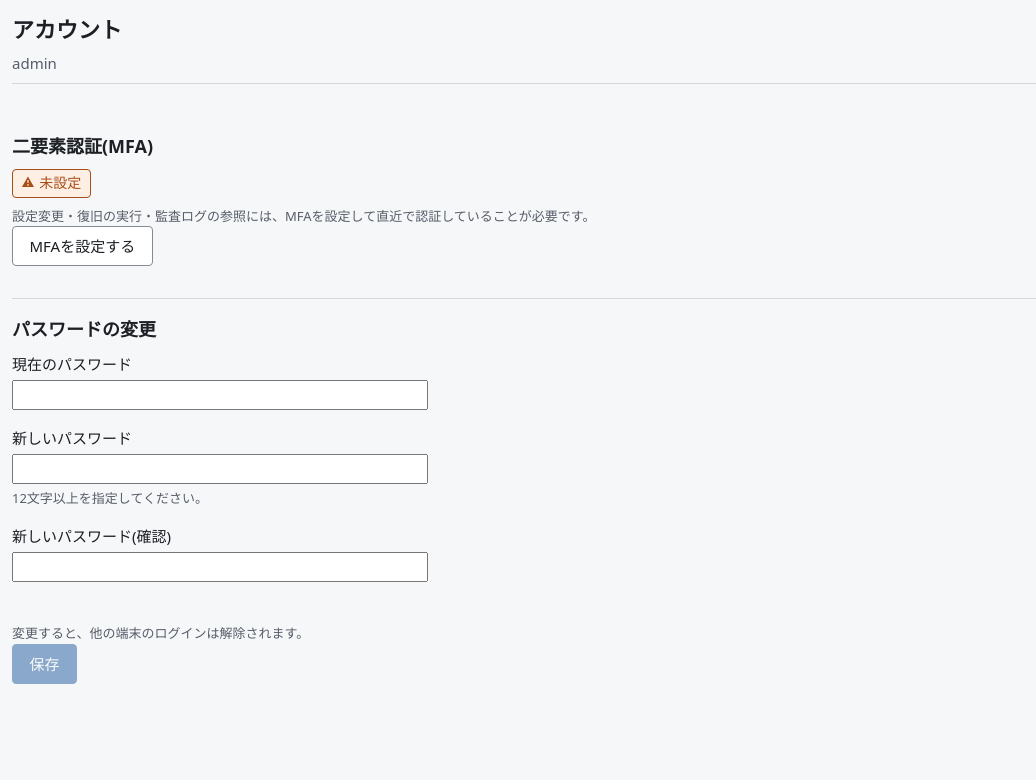
AccountView › 現在のパスワードが違えば理由を出し、その欄を空にする
The image size is (1036, 780).
Type "wrong-password" into the password field with id "current-password" at (220,395), box [12,380,428,410]
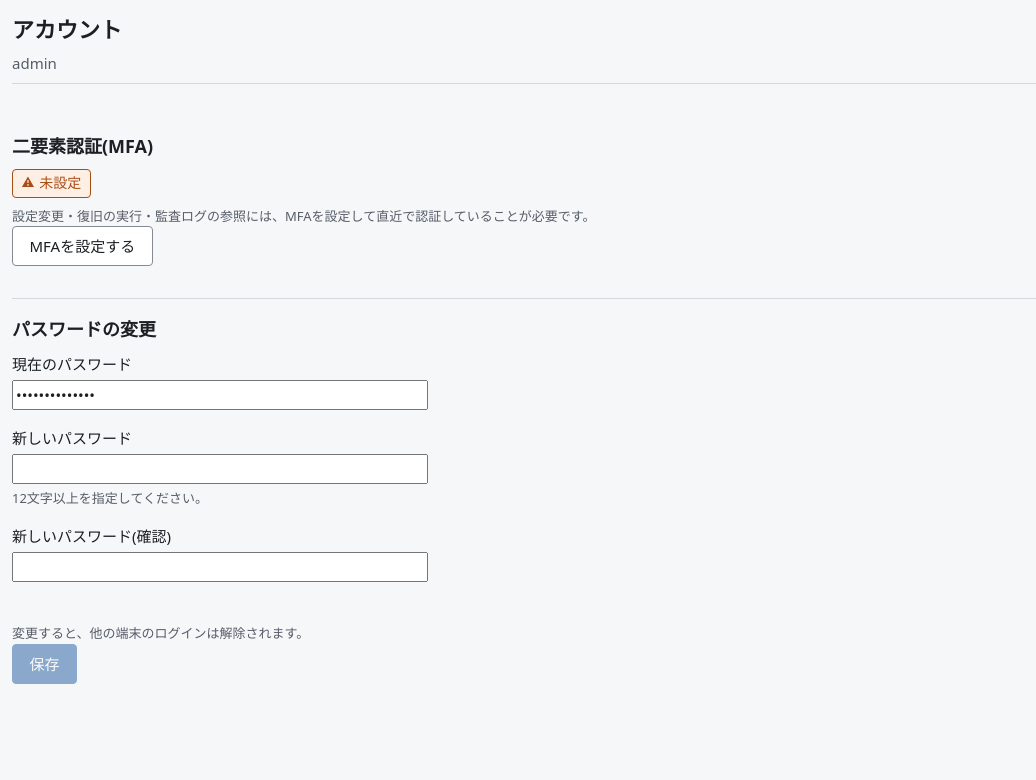
Type "brand-new-password" into the password field with id "new-password" at (220,469), box [12,454,428,484]
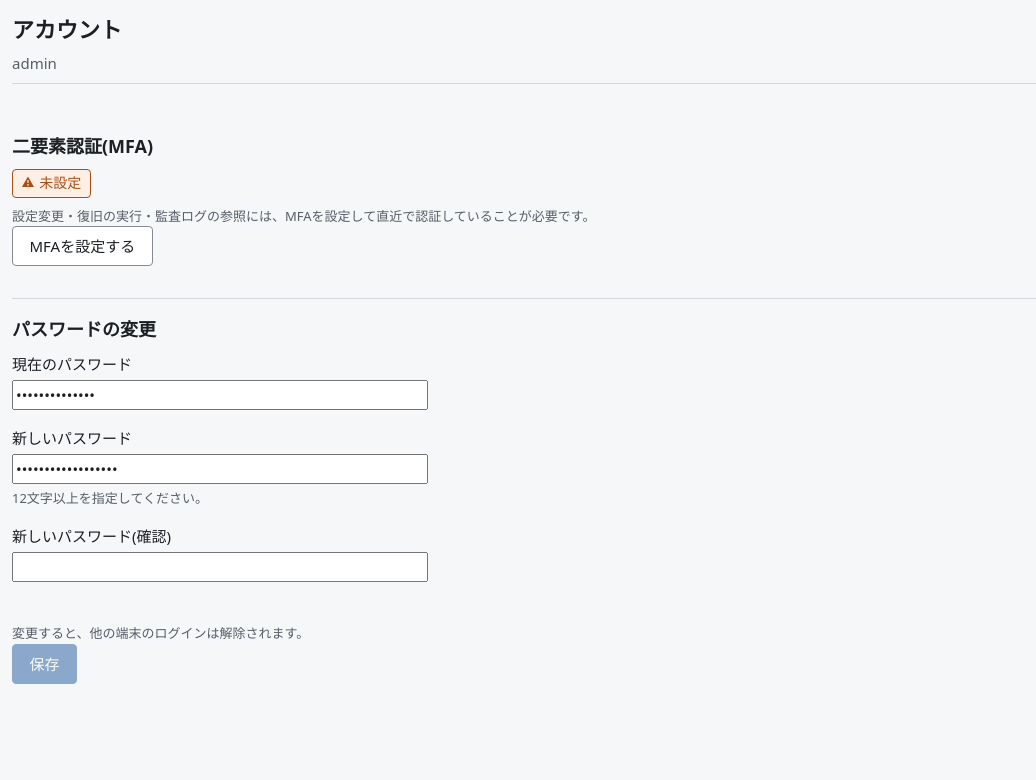
Type "brand-new-password" into the password field with id "confirm-password" at (220,568), box [12,552,428,582]
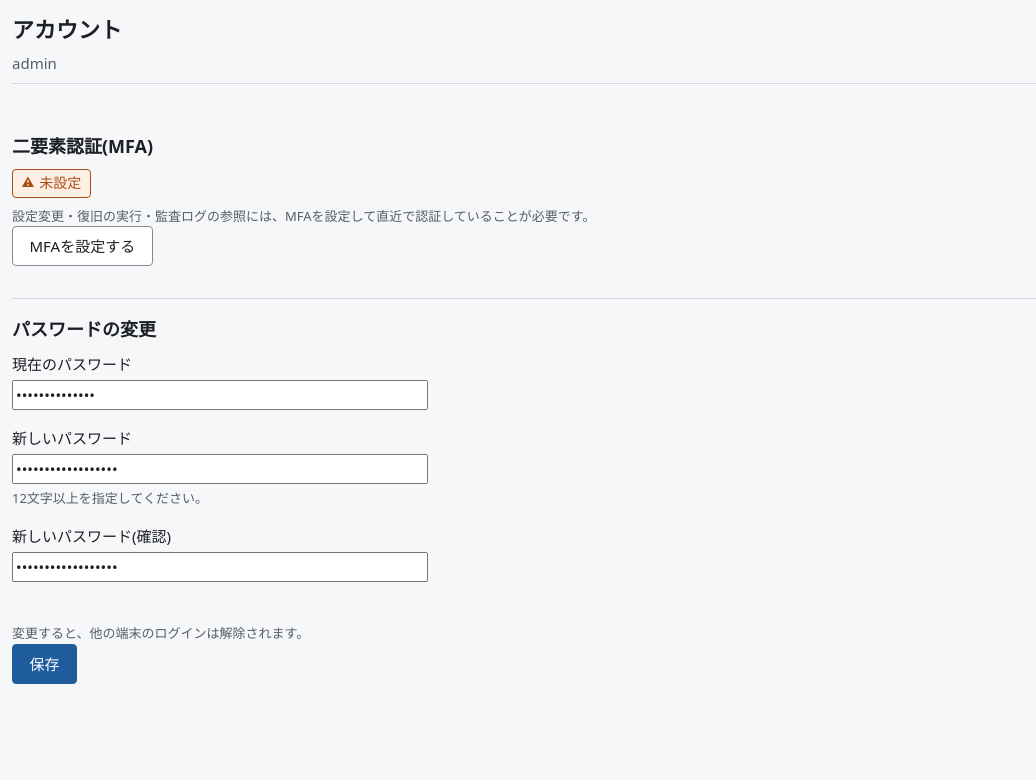
Submit the form, box [12,352,428,684]
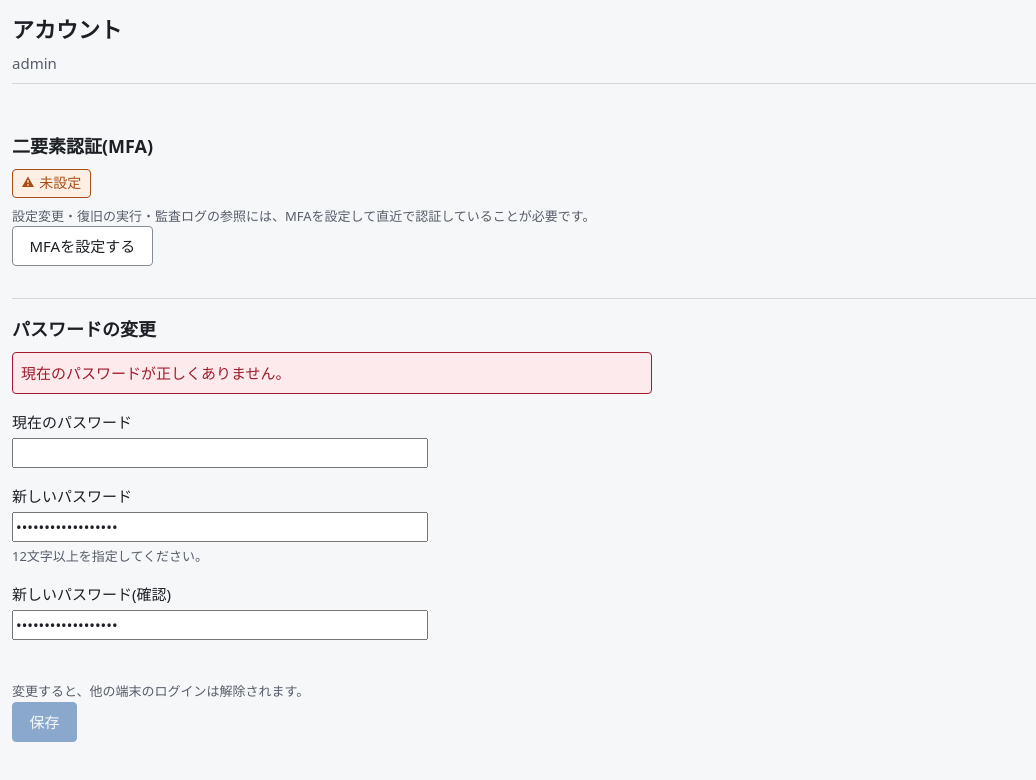
expect the message with test id "password-error" reads "現在のパスワードが正しくありません。": met, box [21,363,291,383]
expect the password field with id "current-password" is empty: met, box [12,438,428,468]
